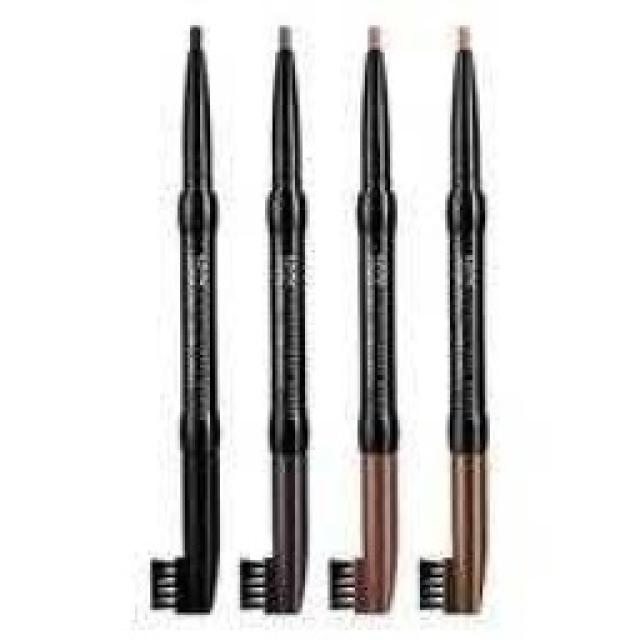pencil: (142, 12, 502, 622)
